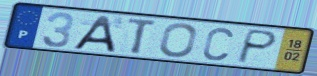3: (42, 11, 76, 48)
A: (70, 14, 117, 54)
C: (200, 26, 235, 62)
O: (158, 22, 199, 58)
P: (234, 28, 280, 65)
T: (126, 16, 160, 55)
